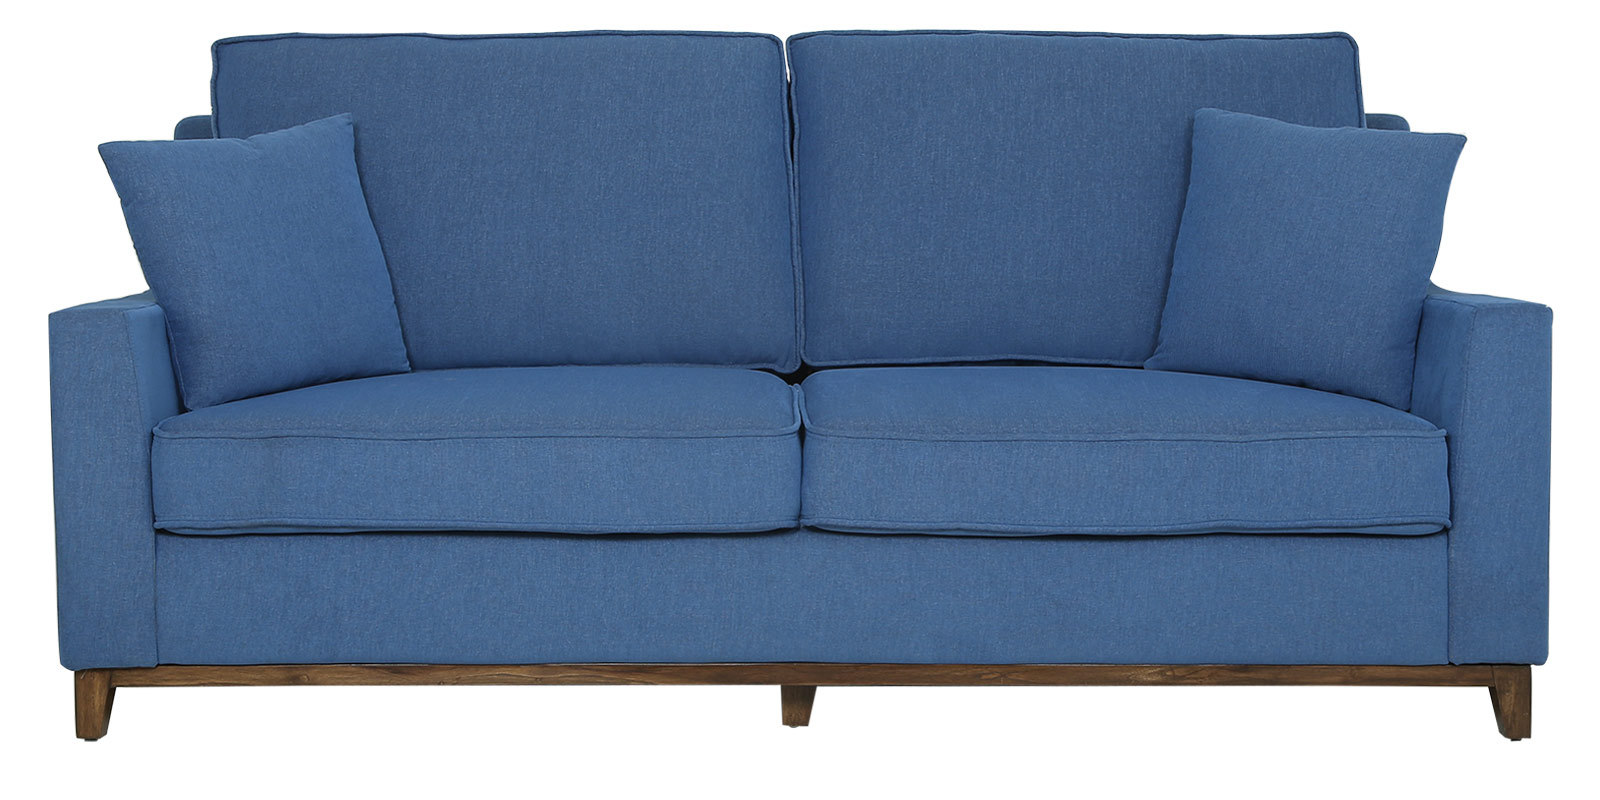Diego Three Seater Sofa in Denim Blue Colour by CasaCraft: (33, 28, 1568, 741)
